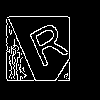R: (23, 11, 70, 69)
